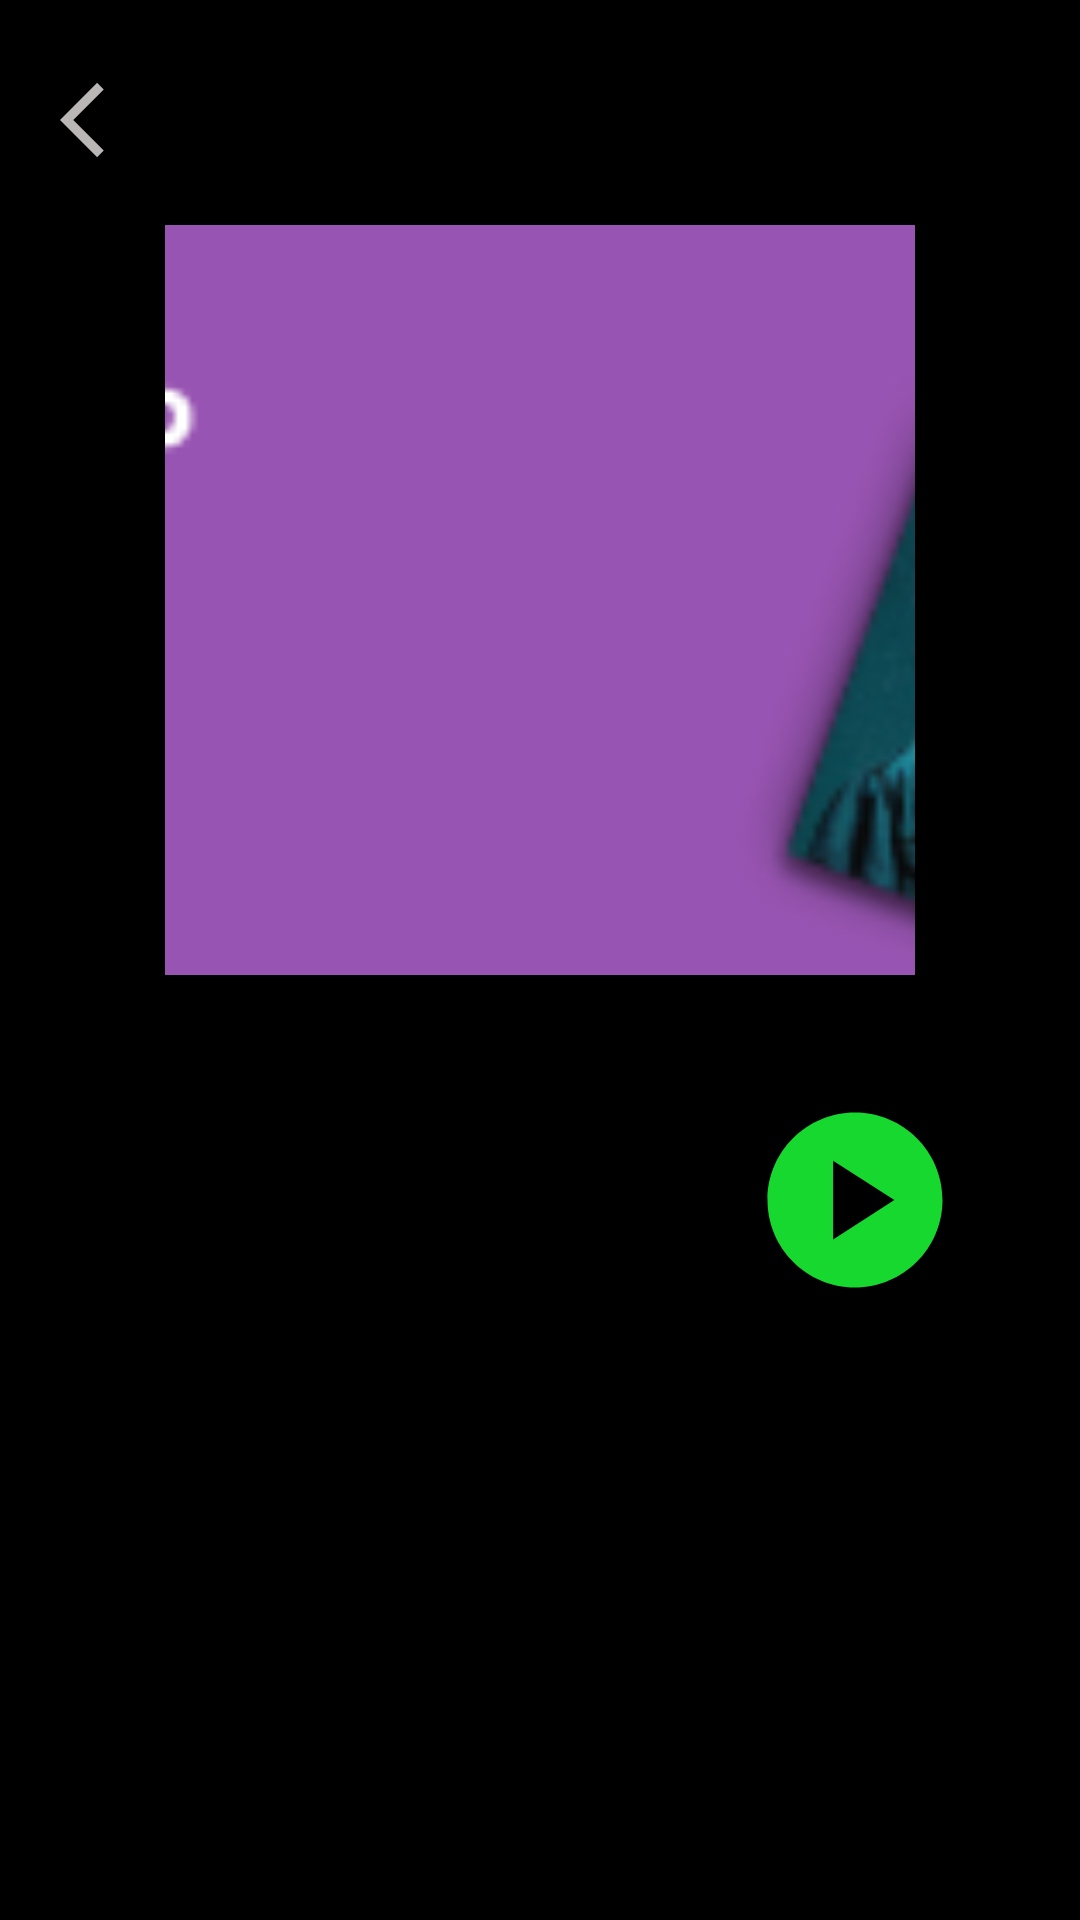

Icon bounding boxes for this 1080×1920 phone screenshot, format (x1, y1, x2, y2):
back: (60, 83, 104, 157)
